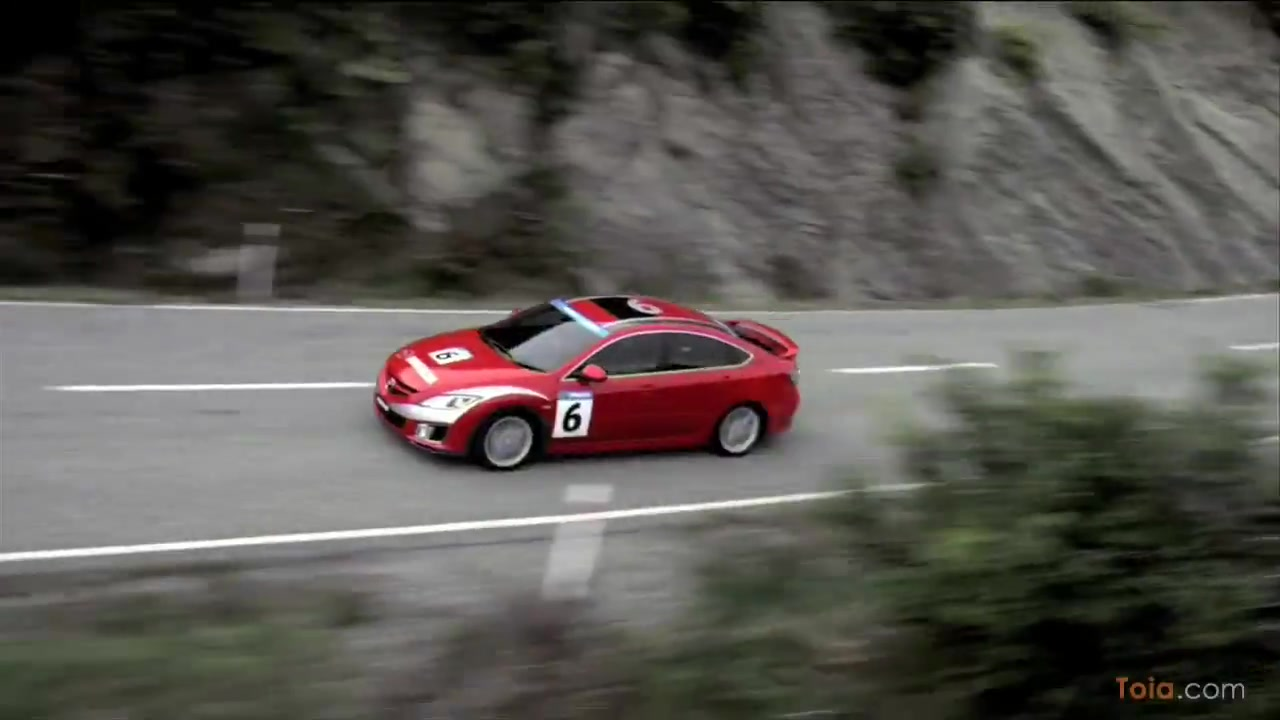car: (368, 292, 803, 472)
